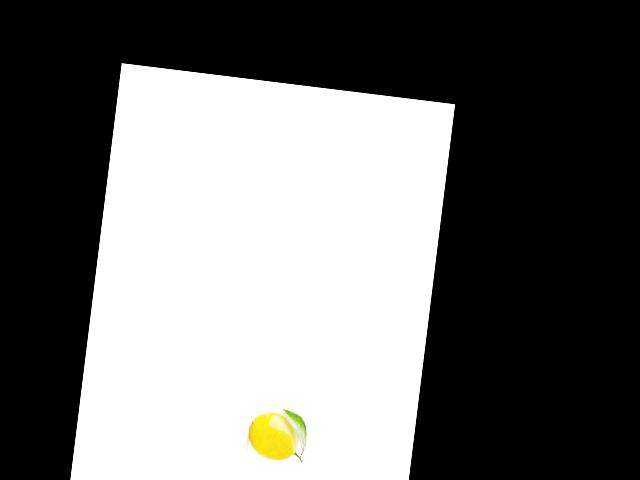lemon: (244, 406, 308, 465)
